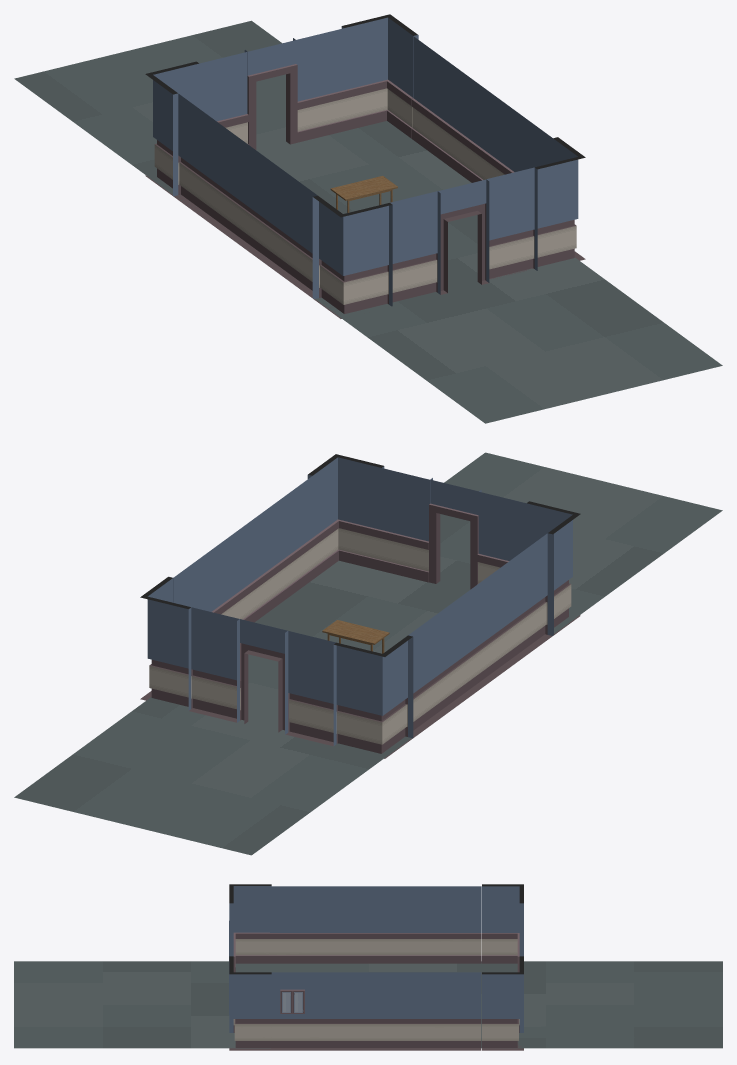
3 views of the same model, one above another, from view 1: azimuth 30°, elevation 25°; view 2: azimuth 150°, elevation 25°; view 3: azimuth 270°, elevation 25° (orthographic). The views are drawn at different scales.
Visible parts, largest first — view 1: mesh_floor_2x2_mat_floor_0, mesh_doublewall_straight_mat_wall_inside_1_0 (×6), mesh_wall_corner_mat_wall_inside_1_0 (×4), mesh_doublewall_door_mat_wall_inside_1_0 (×2), Cubo.007_0; view 2: mesh_floor_2x2_mat_floor_0, mesh_doublewall_straight_mat_wall_inside_1_0 (×6), mesh_wall_corner_mat_wall_inside_1_0 (×4), mesh_doublewall_door_mat_wall_inside_1_0 (×2), Cubo.007_0; view 3: mesh_floor_2x2_mat_floor_0, mesh_doublewall_straight_mat_wall_inside_1_0 (×4), mesh_wall_corner_mat_wall_inside_1_0 (×4), mesh_window_sash_2, mesh_window_sash_1.
Part boxes in pixels (bbox=[...]): mesh_floor_2x2_mat_floor_0: bbox=[14, 20, 722, 423]; mesh_doublewall_straight_mat_wall_inside_1_0 (×6): bbox=[173, 28, 553, 306]; mesh_wall_corner_mat_wall_inside_1_0 (×4): bbox=[145, 14, 585, 318]; mesh_doublewall_door_mat_wall_inside_1_0 (×2): bbox=[244, 38, 489, 294]; Cubo.007_0: bbox=[330, 176, 397, 212]; mesh_floor_2x2_mat_floor_0: bbox=[14, 452, 722, 855]; mesh_doublewall_straight_mat_wall_inside_1_0 (×6): bbox=[168, 468, 553, 746]; mesh_wall_corner_mat_wall_inside_1_0 (×4): bbox=[140, 454, 580, 758]; mesh_doublewall_door_mat_wall_inside_1_0 (×2): bbox=[237, 478, 478, 733]; Cubo.007_0: bbox=[322, 620, 389, 653]; mesh_floor_2x2_mat_floor_0: bbox=[14, 961, 722, 1048]; mesh_doublewall_straight_mat_wall_inside_1_0 (×4): bbox=[229, 886, 523, 1050]; mesh_wall_corner_mat_wall_inside_1_0 (×4): bbox=[229, 884, 523, 1050]; mesh_window_sash_2: bbox=[280, 989, 292, 1013]; mesh_window_sash_1: bbox=[292, 989, 304, 1013].
Bounding box in the file's own units: 8.99 × 3.56 × 29.93.
Materials: 16 (16 with a texture image).
